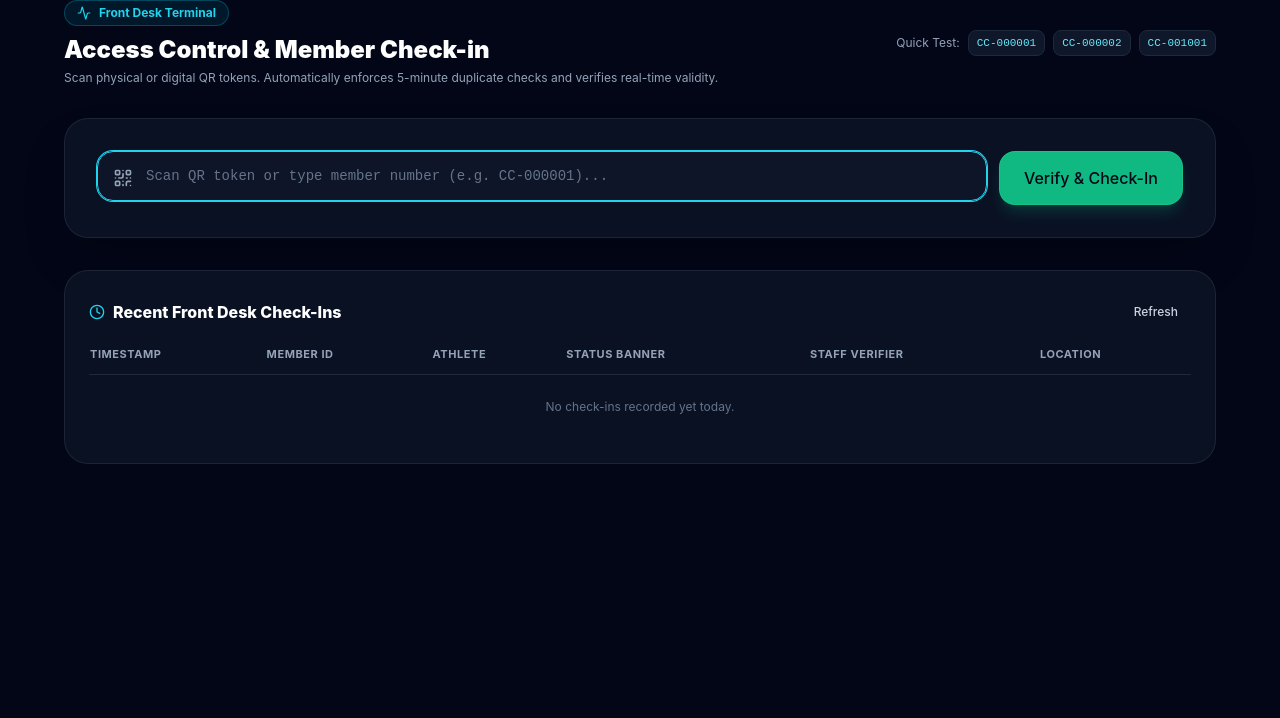
Membership Lifecycle & Notifications Components › FrontDeskCheckInPage Component › displays AMBER EXPIRING_SOON banner with days remaining warning
This screenshot has width=1280, height=718.
Step 1. Type "CC-002000" into the field with placeholder "Scan QR token or type member number (e.g. CC-000001)..." → (542, 176), box [97,151,987,201]
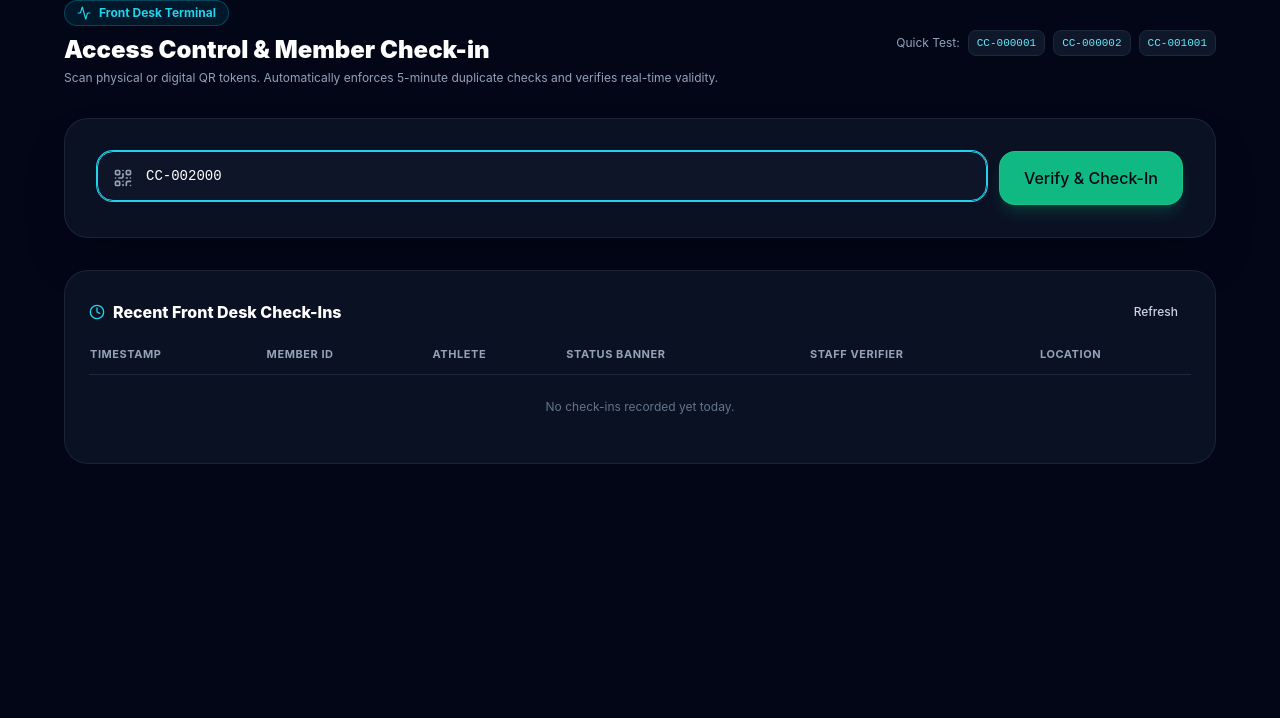
Step 2. Submit the form with placeholder "Scan QR token or type member number", box [97,151,1183,205]
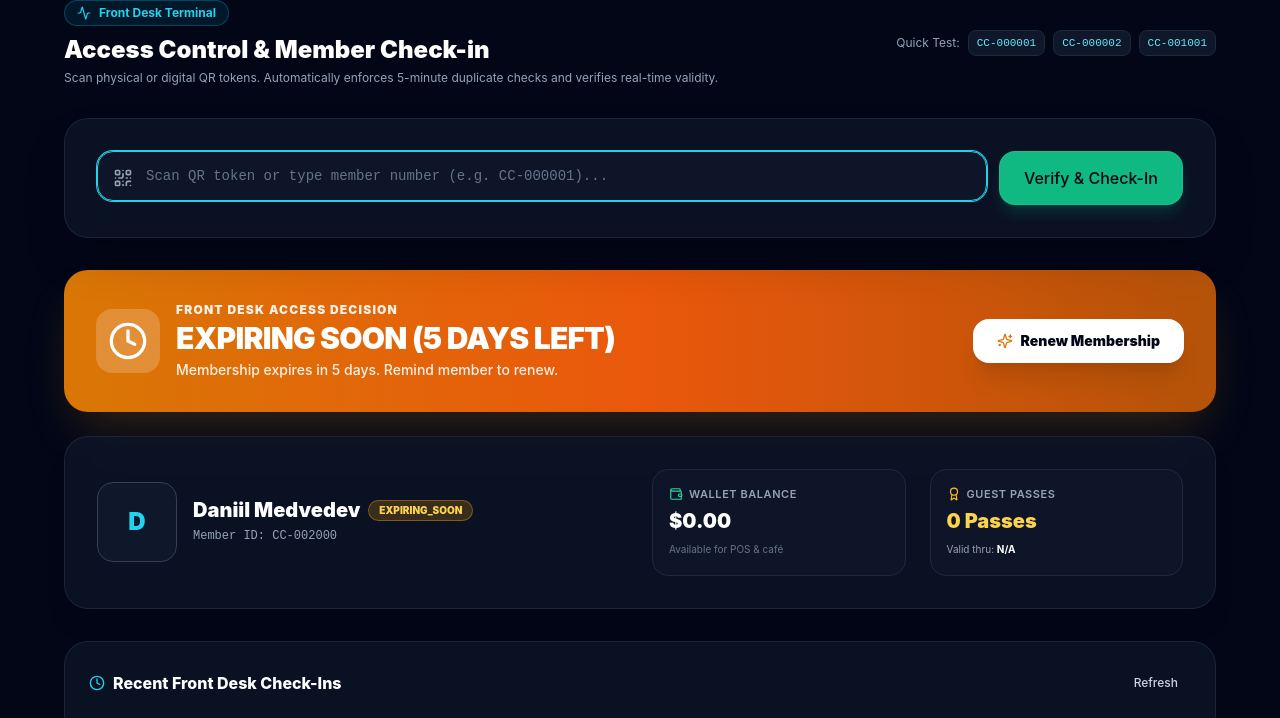
Now the heading "EXPIRING SOON (5 DAYS LEFT)" is shown, box [176,320,615,356]
Now the heading "Daniil Medvedev" is shown, box [193,496,360,524]
